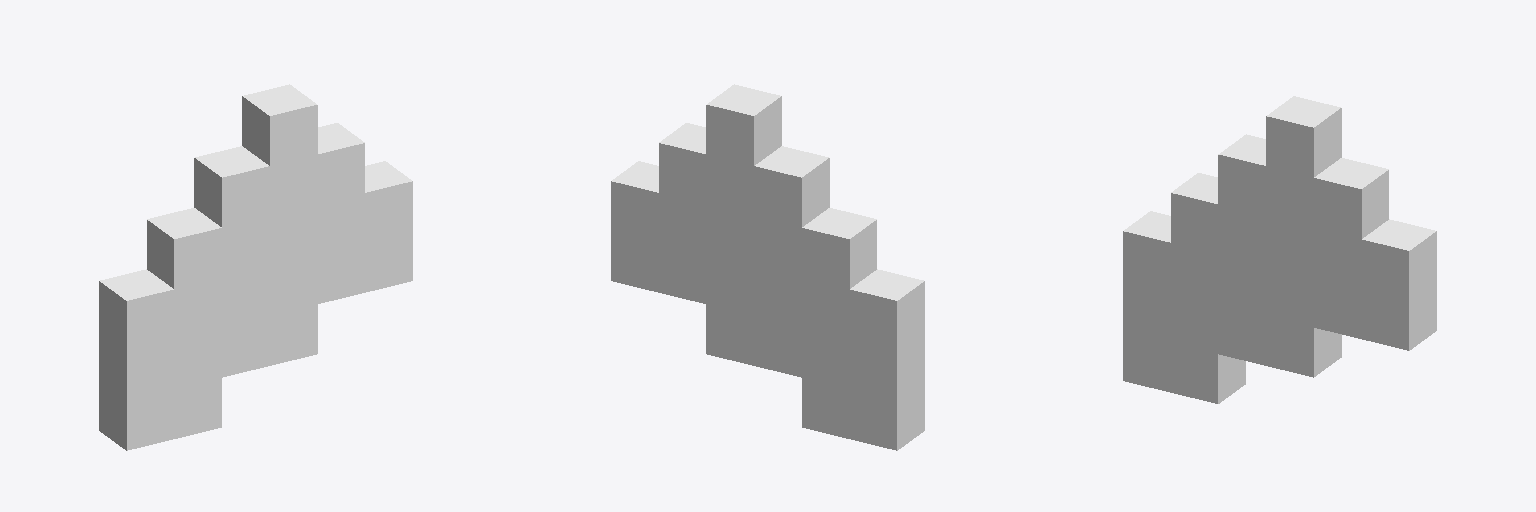
File: bat-6.obj
The picture shows the model from 3 angles: view 1: azimuth 30°, elevation 25°; view 2: azimuth 150°, elevation 25°; view 3: azimuth 330°, elevation 25°; orthographic projection.
Parts seen in each view (by area): view 1: object 1; view 2: object 1; view 3: object 1.
Boxes of the visible parts, box(x1,y1,x2,y2) form: object 1: box(99, 84, 412, 450); object 1: box(611, 84, 924, 450); object 1: box(1123, 96, 1436, 403).
Bounding box in the file's own units: 0.6 × 0.6 × 0.1.